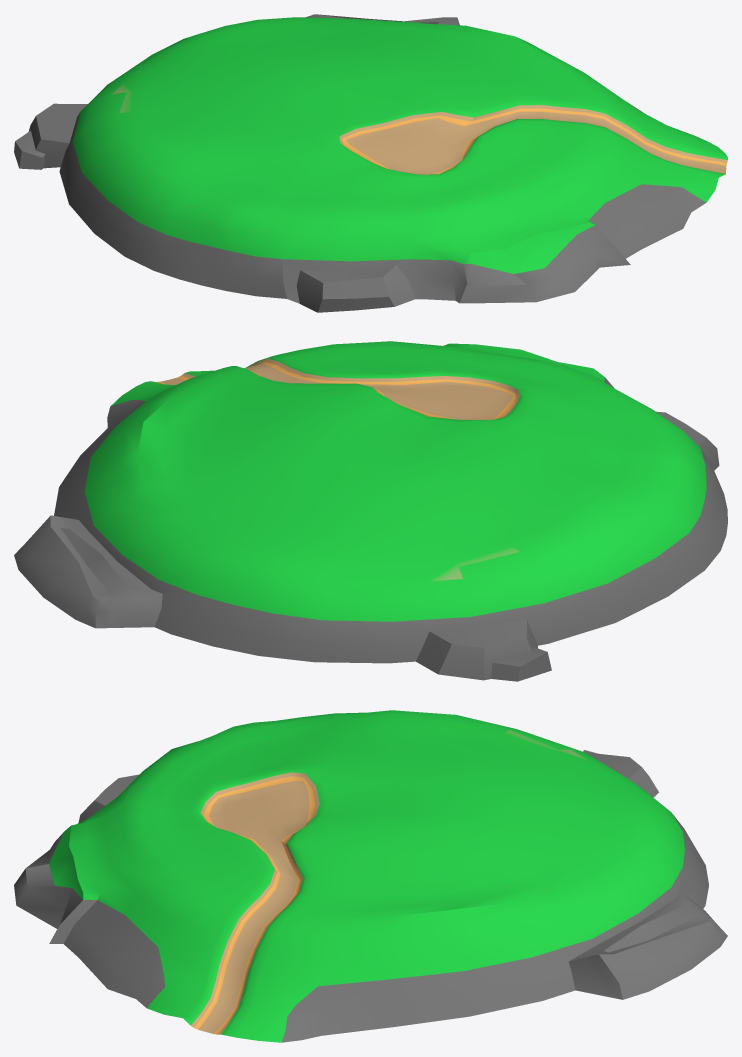
Rendered from island_Lighthouse.fbx.
3 views of the same model, one above another, from view 1: azimuth 30°, elevation 25°; view 2: azimuth 150°, elevation 25°; view 3: azimuth 270°, elevation 25° (orthographic). The views are drawn at different scales.
Visible parts, largest first — view 1: Island_Lighthouse; view 2: Island_Lighthouse; view 3: Island_Lighthouse.
Boxes of the visible parts, <box> form: Island_Lighthouse: <box>14,14,727,312</box>; Island_Lighthouse: <box>14,341,727,681</box>; Island_Lighthouse: <box>14,710,727,1042</box>.
Size of the model in its own units: 12038 by 1816 by 12691.
